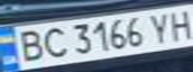1: (90, 18, 112, 53)
3: (69, 20, 93, 56)
6: (124, 14, 151, 48), (106, 16, 130, 51)
B: (9, 27, 48, 64)
C: (36, 25, 69, 60)
H: (163, 6, 193, 42)
Y: (145, 10, 175, 44)
